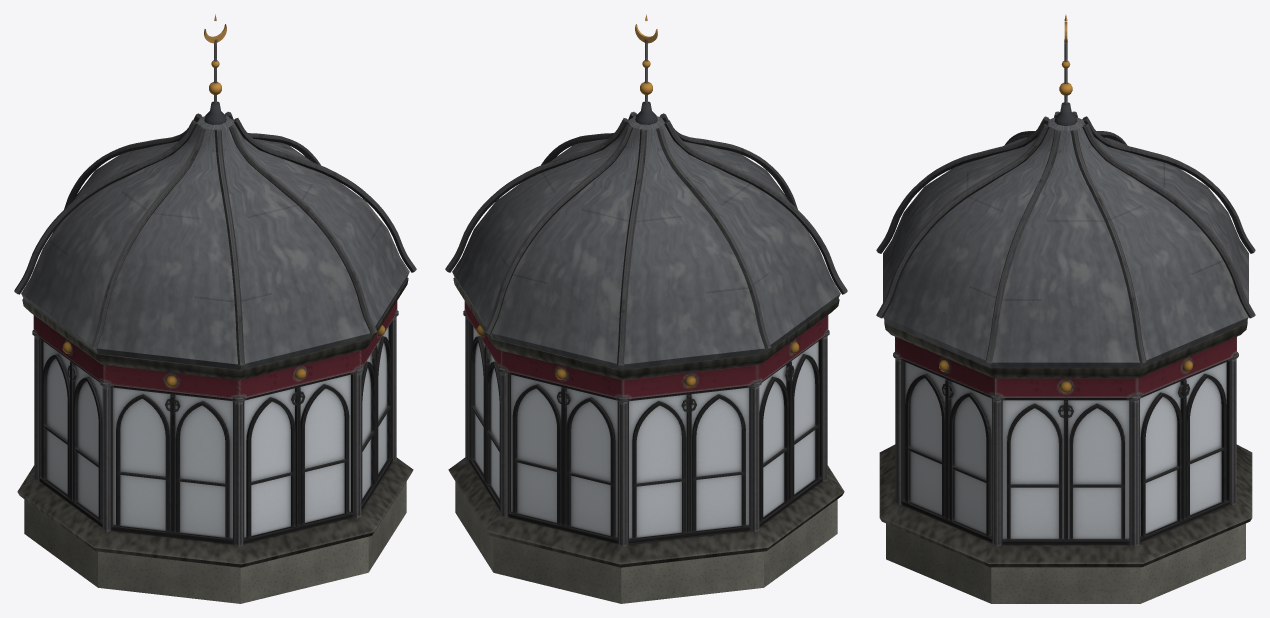
The model's file is LanternRoof.fbx.
3 views of the same model, side by side, from view 1: azimuth 30°, elevation 25°; view 2: azimuth 150°, elevation 25°; view 3: azimuth 270°, elevation 25° (orthographic).
Visible parts, largest first — view 1: LanternRoof_Lead, LanternRoof_Main, LanternRoof_Glass, LanternRoof_Stone; view 2: LanternRoof_Lead, LanternRoof_Main, LanternRoof_Glass, LanternRoof_Stone; view 3: LanternRoof_Lead, LanternRoof_Main, LanternRoof_Glass, LanternRoof_Stone.
Boxes of the visible parts, box(x1,y1,x2,y2) form: LanternRoof_Lead: box(21, 115, 409, 369); LanternRoof_Main: box(14, 14, 416, 567); LanternRoof_Glass: box(43, 327, 388, 538); LanternRoof_Stone: box(24, 482, 406, 603); LanternRoof_Lead: box(452, 115, 840, 369); LanternRoof_Main: box(445, 14, 847, 567); LanternRoof_Glass: box(473, 327, 818, 538); LanternRoof_Stone: box(455, 482, 837, 603); LanternRoof_Lead: box(883, 117, 1248, 367); LanternRoof_Main: box(876, 15, 1255, 567); LanternRoof_Glass: box(905, 362, 1226, 539); LanternRoof_Stone: box(886, 523, 1245, 603).
Size of the model in its own units: 644 by 961 by 644.
